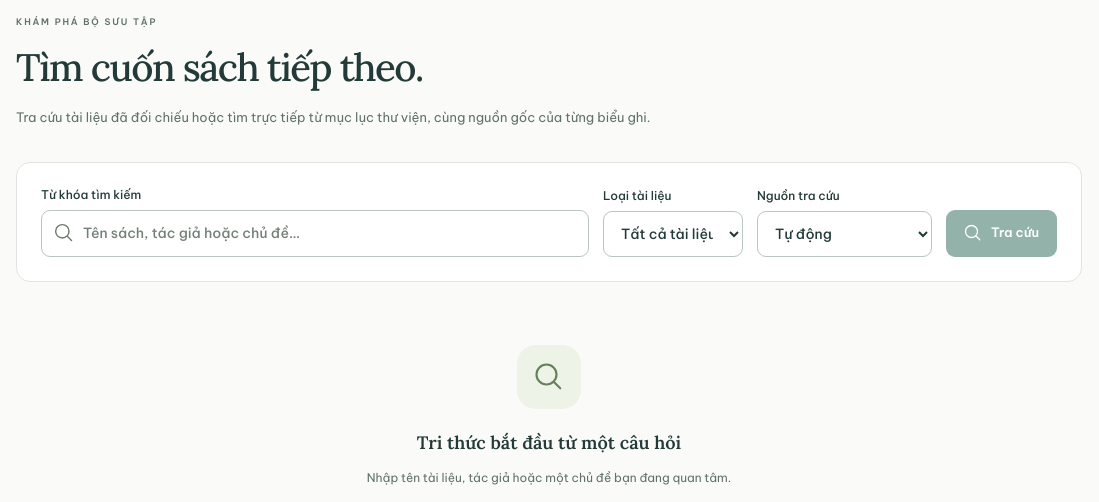
Test: reader workflows › shows catalog upstream failure with a safe direct search link
In the field labelled "Từ khóa tìm kiếm": (315, 233) [41,210,589,257], type "test"
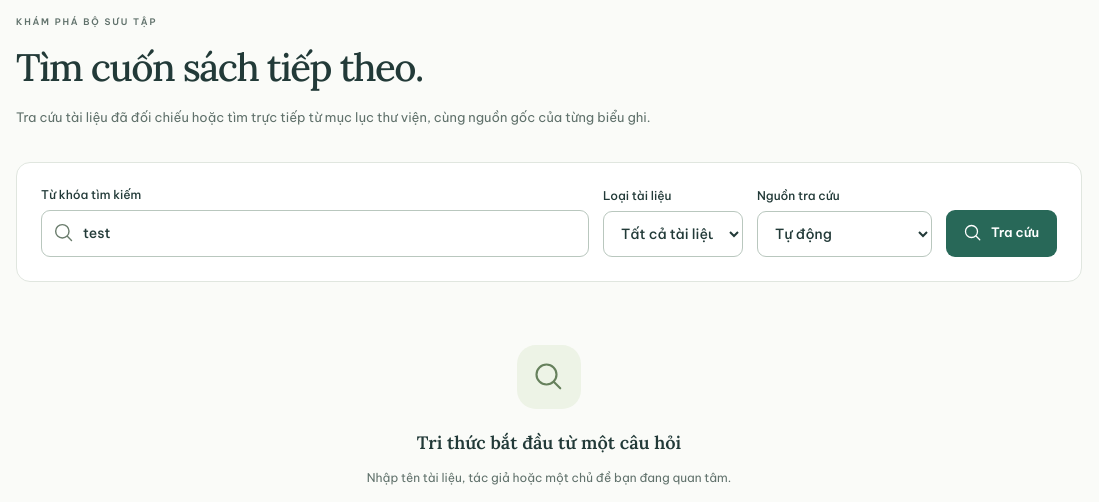
Click the button "Tra cứu": (1002, 233) [946,210,1057,257]
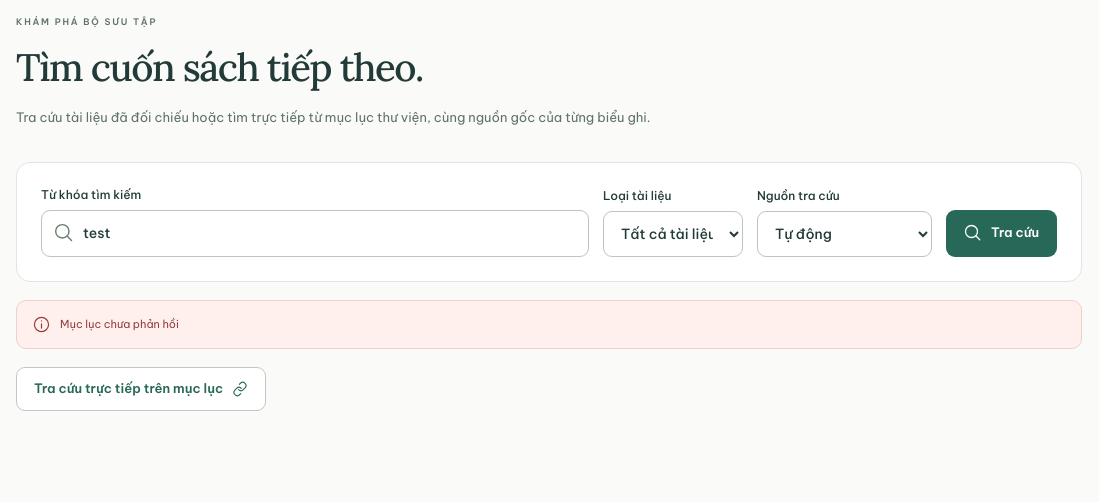
Check: the message "Mục lục chưa phản hồi" is shown, box [16,300,1082,348]
